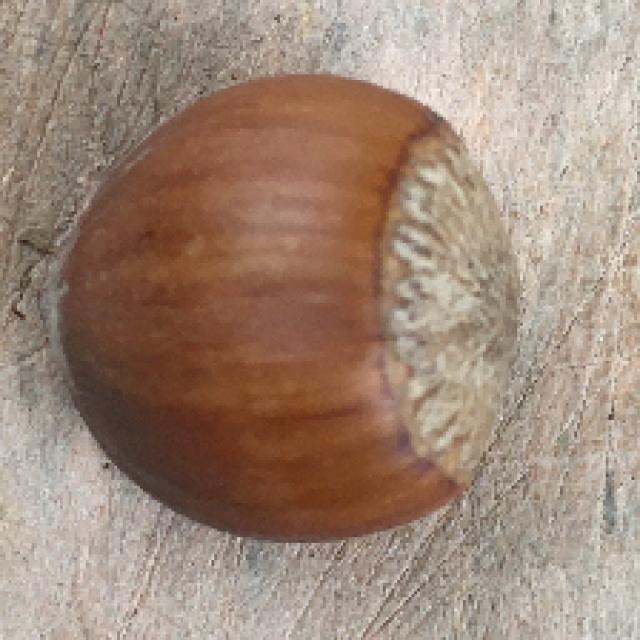qualityHazelnut: (49, 64, 538, 559)
